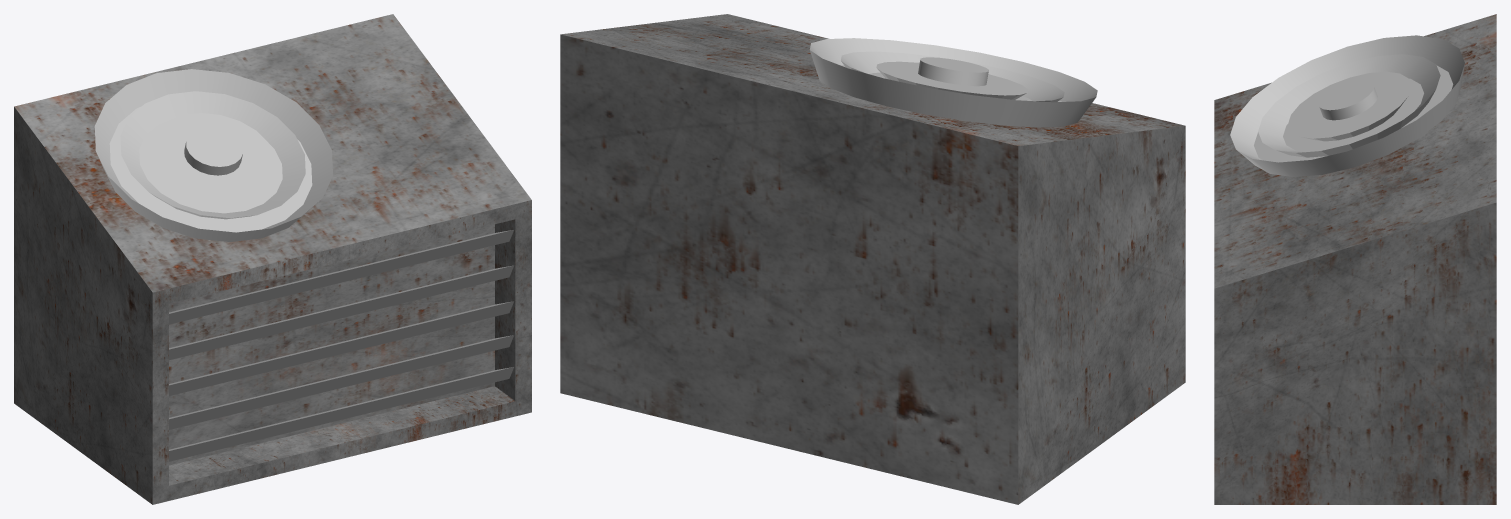
Rendered from Radiator.fbx.
3 renders of one model, left to right at view 1: azimuth 30°, elevation 25°; view 2: azimuth 150°, elevation 25°; view 3: azimuth 270°, elevation 25°, orthographic. The views are drawn at different scales.
Visible parts, largest first — view 1: pCube7; view 2: pCube7; view 3: pCube7.
Part boxes in pixels (bbox=[...]): pCube7: bbox=[14, 14, 531, 504]; pCube7: bbox=[560, 14, 1185, 504]; pCube7: bbox=[1214, 14, 1496, 504].
Bounding box in the file's own units: 1.58 × 1.24 × 1.
